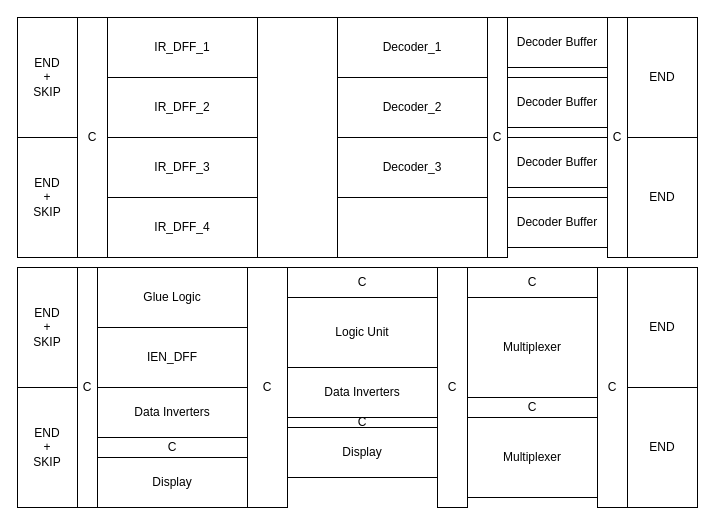
The diagram is 715 pixels wide and 525 high, and some of its shapes have lost their labels. Each missing label, with the box of its shape:
Conn. + Buffers: (256, 16, 338, 258)
Decoder_4: (336, 196, 488, 258)
